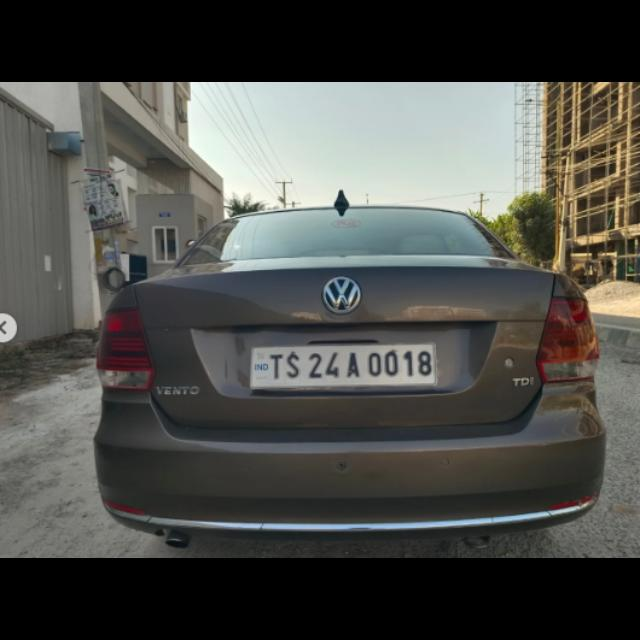number-plate: (252, 344, 437, 387)
vehicles: (102, 197, 611, 546)
